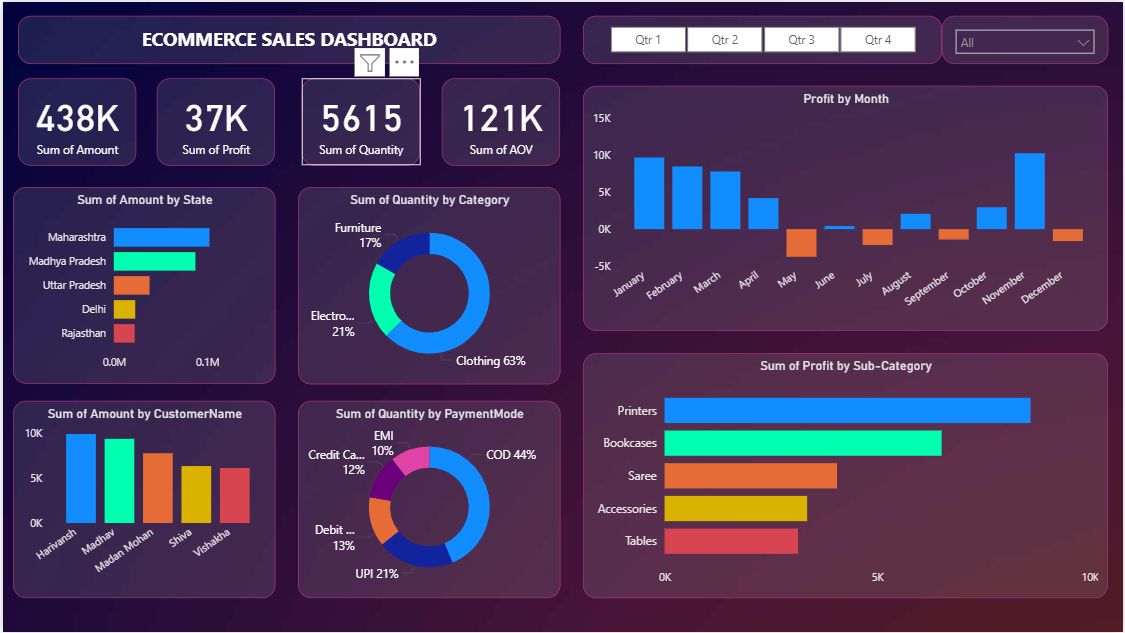

Layout of this report page (visuals, bound fields, positions):
{"tool":"powerbi","page":{"name":"Page 1","canvas":[1280,720],"ordinal":0},"visuals":[{"type":"textbox","box":[16.7,15.6,620,55.6],"z":0},{"type":"columnChart","title":"Profit by Month","fields":{"Category":["Orders.Order Date.Variation.Date Hierarchy.Month"],"Y":["Sum(Details.Profit)"]},"box":[663.3,95.6,600,280],"z":1000},{"type":"barChart","fields":{"Category":["Details.Sub-Category"],"Y":["Sum(Details.Profit)"]},"box":[663.3,401.1,600,280],"z":2000},{"type":"donutChart","fields":{"Y":["Sum(Details.Quantity)"],"Category":["Details.PaymentMode"]},"box":[336.7,455.6,300,225.6],"z":3000},{"type":"donutChart","fields":{"Category":["Details.Category"],"Y":["Sum(Details.Quantity)"]},"box":[336.7,211.1,300,225.6],"z":4000},{"type":"card","fields":{"Values":["Sum(Details.Amount)"]},"box":[16.7,86.7,135.6,100],"z":5000},{"type":"card","fields":{"Values":["Sum(Details.Quantity)"]},"box":[341.1,86.7,135.6,100],"z":6000},{"type":"card","fields":{"Values":["Sum(Details.AOV)"]},"box":[501.1,86.7,135.6,100],"z":7000},{"type":"card","fields":{"Values":["Sum(Details.Profit)"]},"box":[175.6,86.7,135.6,100],"z":8000},{"type":"barChart","fields":{"Category":["Orders.State"],"Y":["Sum(Details.Amount)"]},"box":[11.1,211.1,300,224.4],"z":9000},{"type":"columnChart","fields":{"Category":["Orders.CustomerName"],"Y":["Sum(Details.Amount)"]},"box":[11.1,455.6,300,225.6],"z":10000},{"type":"slicer","fields":{"Values":["Orders.Order Date.Variation.Date Hierarchy.Quarter"]},"box":[663.3,15.6,410,55],"z":11000},{"type":"slicer","fields":{"Values":["Orders.State"]},"box":[1073.3,15.6,190,55.6],"z":12000}]}

Visuals, with their boxes in screenshot pixels (x1, y1, x2, y2), scaled from the page's 1280x720 canvas onto the 1125x633 screenshot:
textbox: x1=15, y1=14, x2=560, y2=63
"Profit by Month" columnChart: x1=583, y1=84, x2=1110, y2=330
barChart - Details.Sub-Category x Sum(Details.Profit): x1=583, y1=353, x2=1110, y2=599
donutChart - Sum(Details.Quantity) x Details.PaymentMode: x1=296, y1=401, x2=560, y2=599
donutChart - Details.Category x Sum(Details.Quantity): x1=296, y1=186, x2=560, y2=384
card - Sum(Details.Amount): x1=15, y1=76, x2=134, y2=164
card - Sum(Details.Quantity): x1=300, y1=76, x2=419, y2=164
card - Sum(Details.AOV): x1=440, y1=76, x2=560, y2=164
card - Sum(Details.Profit): x1=154, y1=76, x2=274, y2=164
barChart - Orders.State x Sum(Details.Amount): x1=10, y1=186, x2=273, y2=383
columnChart - Orders.CustomerName x Sum(Details.Amount): x1=10, y1=401, x2=273, y2=599
slicer - Orders.Order Date.Variation.Date Hierarchy.Quarter: x1=583, y1=14, x2=943, y2=62
slicer - Orders.State: x1=943, y1=14, x2=1110, y2=63
